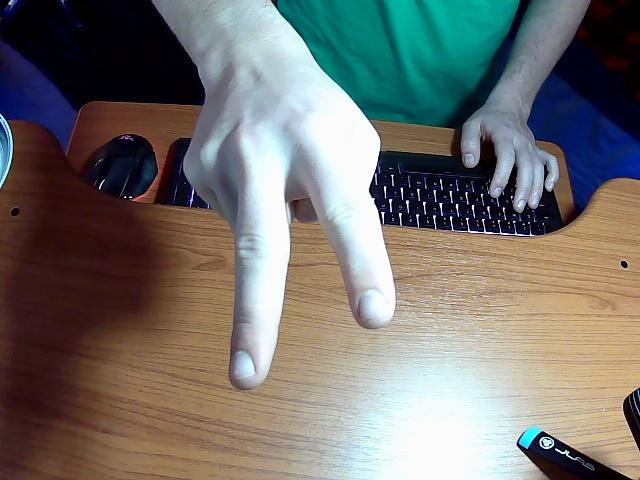scissors: (155, 0, 588, 388)
